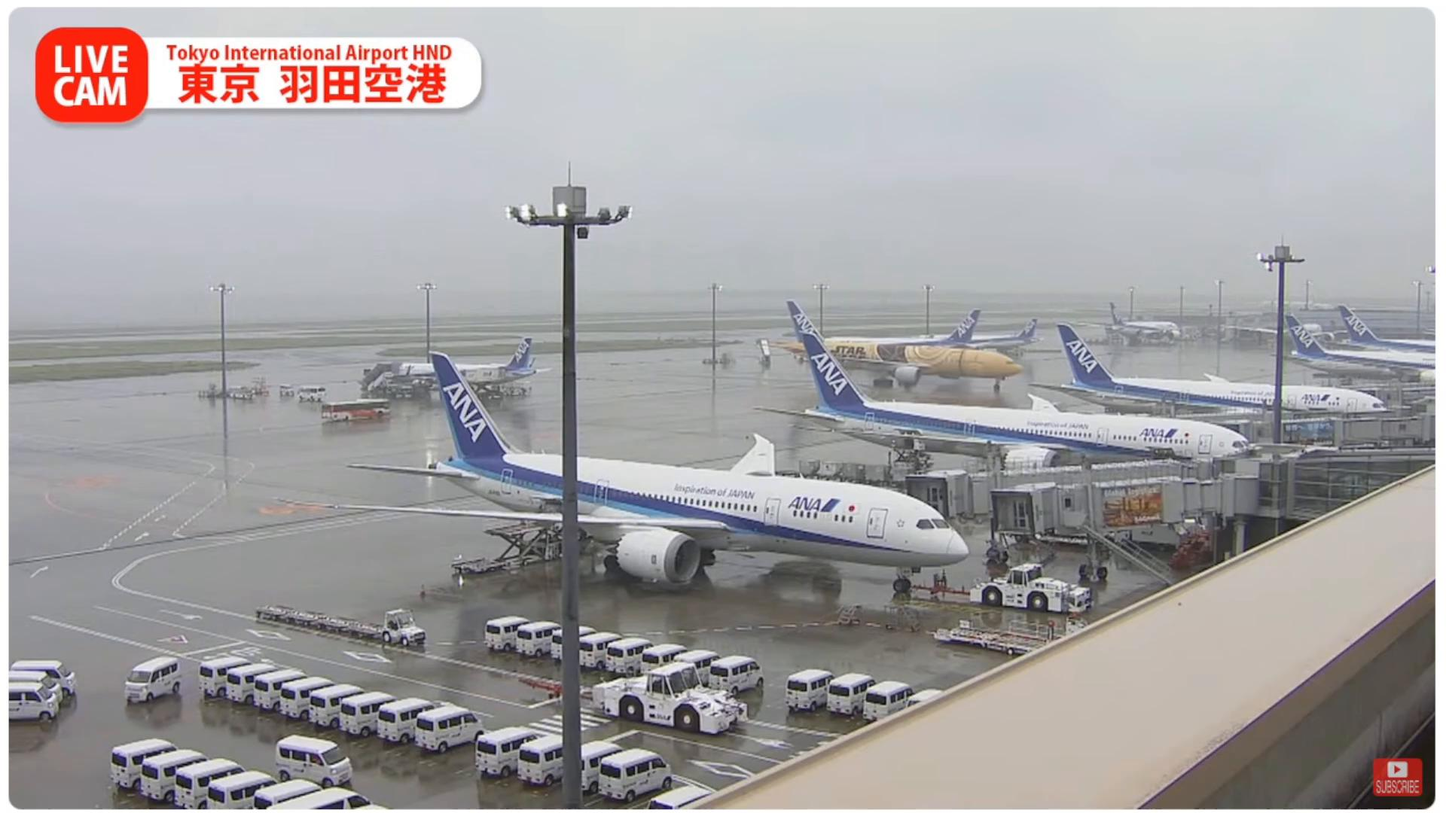APS: (591, 661, 749, 735), (968, 562, 1094, 614)
Aerobridge: (898, 474, 1254, 535), (904, 455, 1233, 482)
Airplane: (270, 351, 970, 592)
Dolly: (256, 605, 385, 638)
JCPL: (924, 613, 1089, 655), (447, 521, 564, 573)
Tractor: (382, 608, 426, 646)
Window: (1292, 458, 1433, 516)
